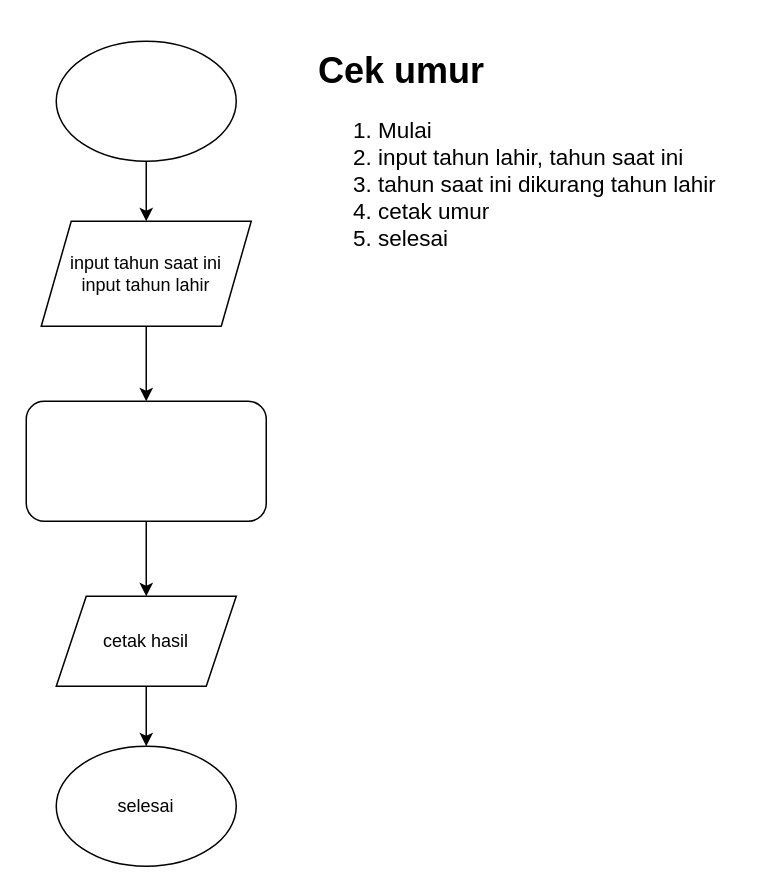
This 773x893 diagram has some shape labels left out. Each missing label, with the centre of its shape:
"mulai" goes at (x=145, y=100).
"umur = tahun skrg - tahun lahir" goes at (x=145, y=460).
